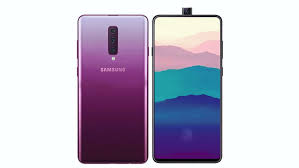samsung: (73, 13, 148, 168)
